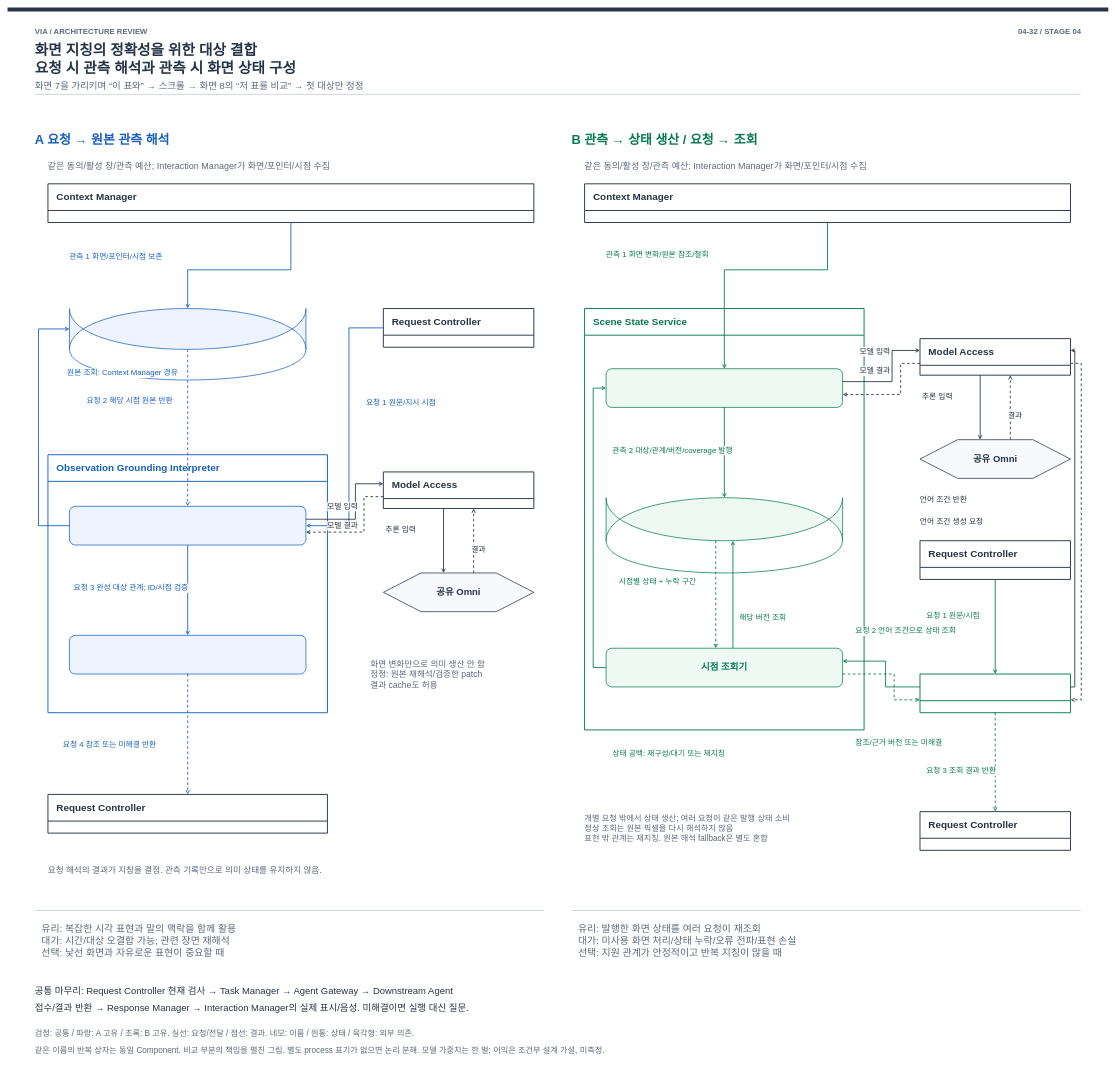
The diagram is 1115 pixels wide and 1065 high, and some of its shapes have lost their labels. The centre of each missing label's shape, as x and y in pixels:
Scene Query Interpreter: the point at 995,693
관측 대상 검증기: the point at 187,654
대상과 관계 저장소: the point at 724,519
시각과 언어 공동 해석기: the point at 187,525
원본 관측 버퍼: the point at 187,329
장면 갱신기: the point at 724,388
